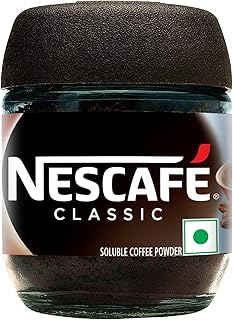Coffee: (2, 7, 233, 318)
